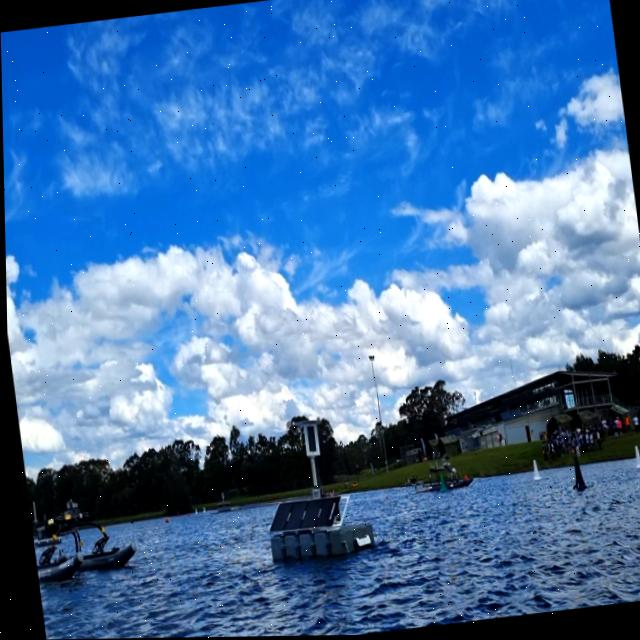led: (302, 423, 317, 456)
